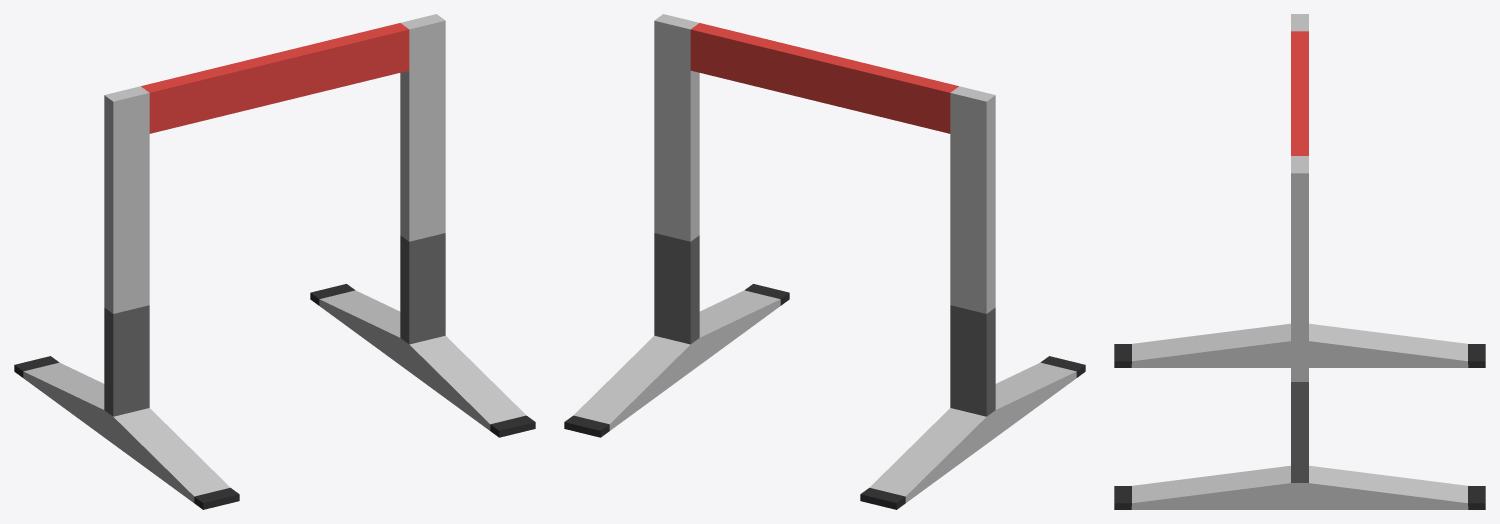
The model's file is Hurdle.fbx.
The picture shows the model from 3 angles, left to right: view 1: azimuth 30°, elevation 25°; view 2: azimuth 150°, elevation 25°; view 3: azimuth 270°, elevation 25°; orthographic projection.
Parts seen in each view (by area): view 1: Hurdle; view 2: Hurdle; view 3: Hurdle.
Part boxes in pixels (<box>): Hurdle: <box>14,14,535,509</box>; Hurdle: <box>564,14,1085,509</box>; Hurdle: <box>1114,14,1485,509</box>.
Size of the model in its own units: 508 by 500 by 500.
